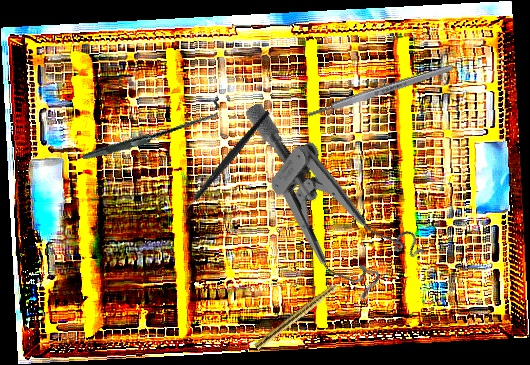Chopper: (157, 110, 296, 222)
Handpiece: (253, 275, 349, 353)
Hook Surgical: (81, 62, 222, 199)
Scalpel Handle: (306, 63, 455, 119)
Speculum: (196, 99, 441, 314)
